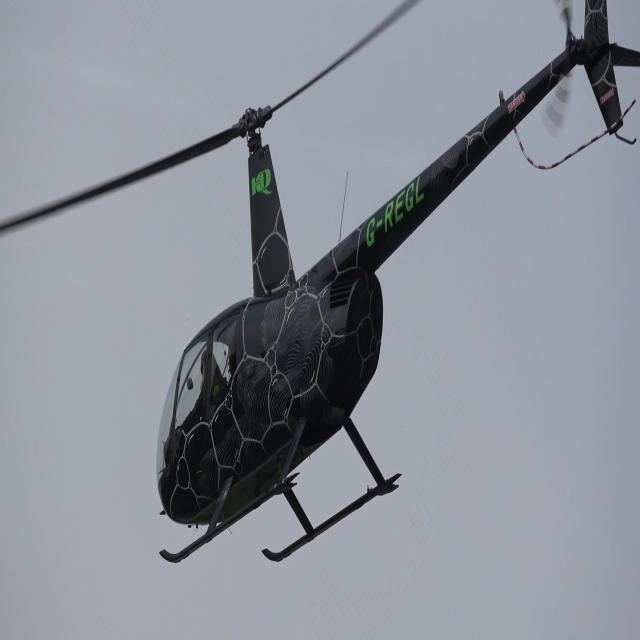CIV_HELO: (154, 0, 640, 565)
